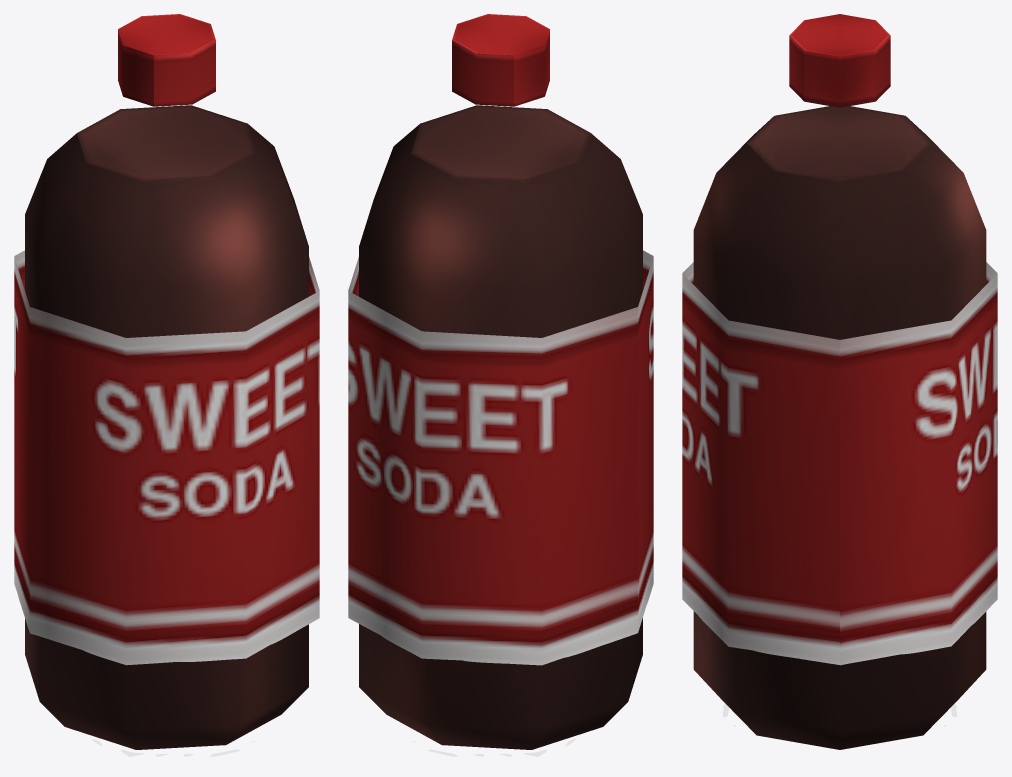
The model's file is coke.FBX.
3 views of the same model, side by side, from view 1: azimuth 30°, elevation 25°; view 2: azimuth 150°, elevation 25°; view 3: azimuth 270°, elevation 25° (orthographic).
Visible parts, largest first — view 1: coke; view 2: coke; view 3: coke.
Boxes of the visible parts, left/top/right/bottom form: coke: left=14, top=14, right=319, bottom=749; coke: left=348, top=14, right=653, bottom=749; coke: left=682, top=14, right=997, bottom=749.
Bounding box in the file's own units: 4.53 × 10.69 × 4.53.
